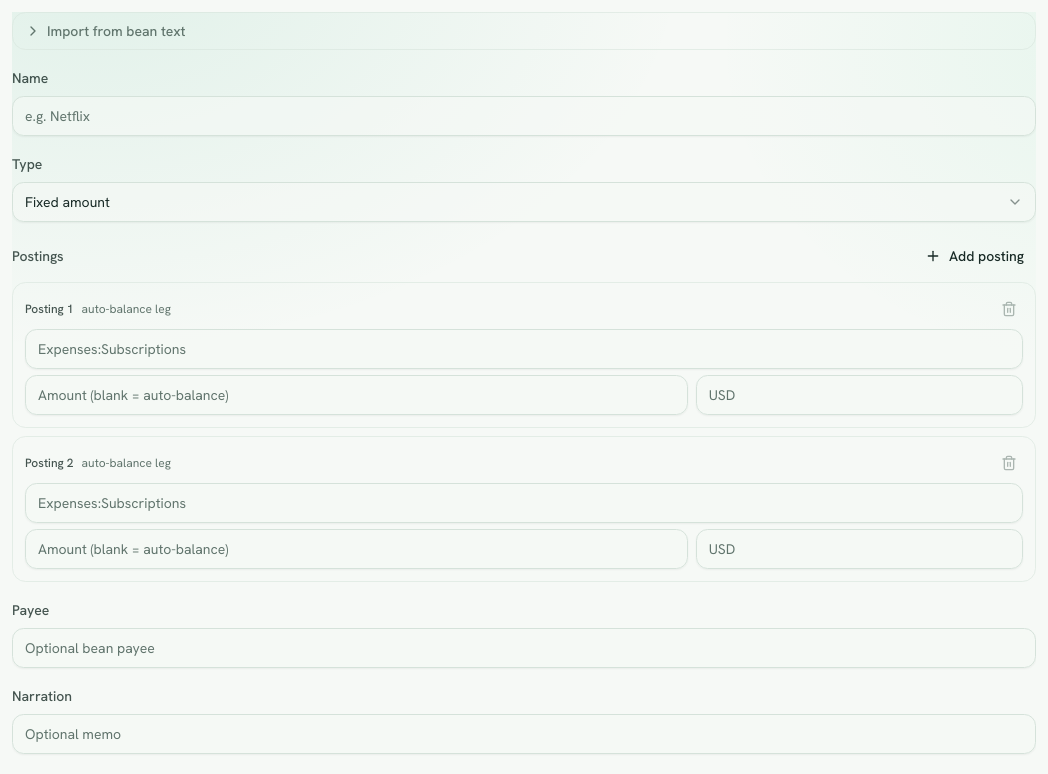
selecting a loan type reveals loan fields and hides postings/end-date/max-count
Check: the dropdown named "account 1" is shown, box [25,329,1023,369]
Check: the field labelled "principal" is not shown
Note: Switch to equal_payment.
Click the dropdown named "type".
click(67, 202)  # box [12,182,1036,222]
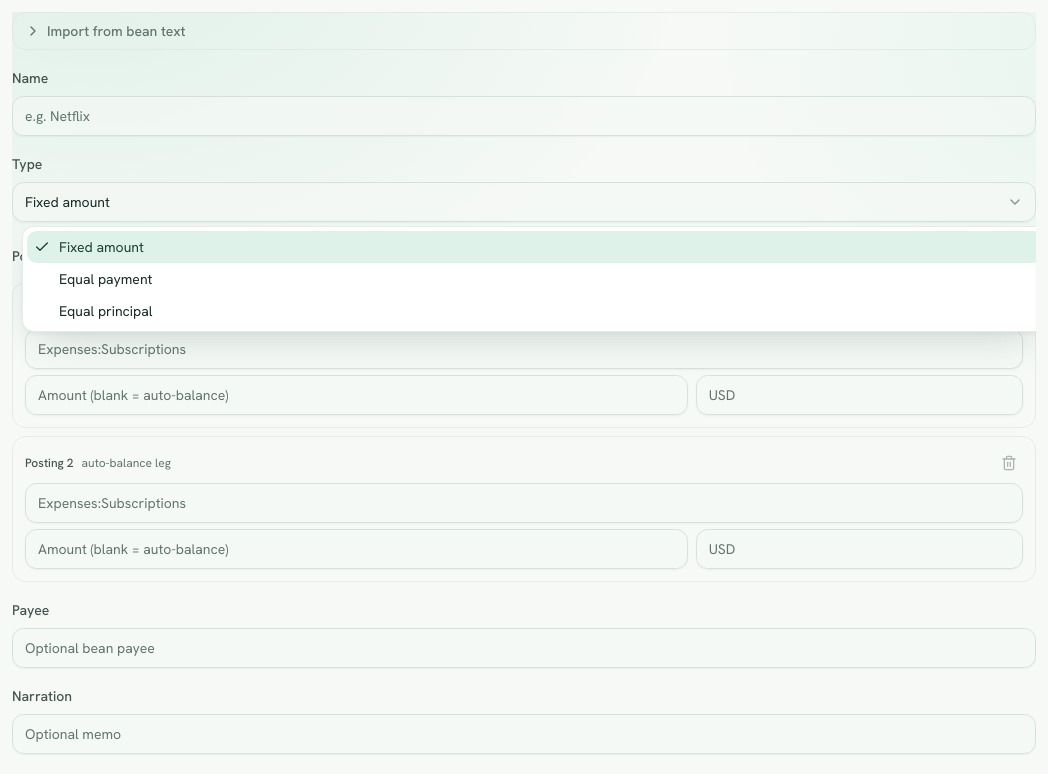
Click the option "Equal payment".
click(106, 279)  # box [59,270,152,288]
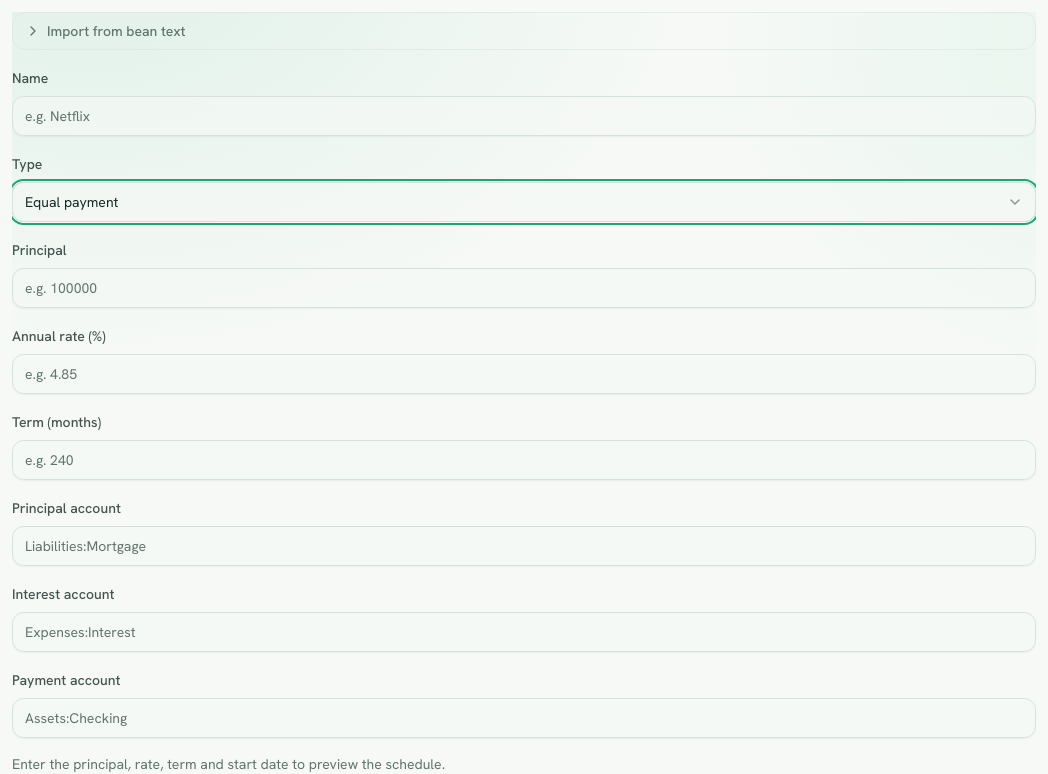
Check: the field labelled "Principal" is shown, box [12,268,1036,308]
Check: the field labelled "Annual rate (%)" is shown, box [12,354,1036,394]
Check: the number field labelled "Term (months)" is shown, box [12,440,1036,480]
